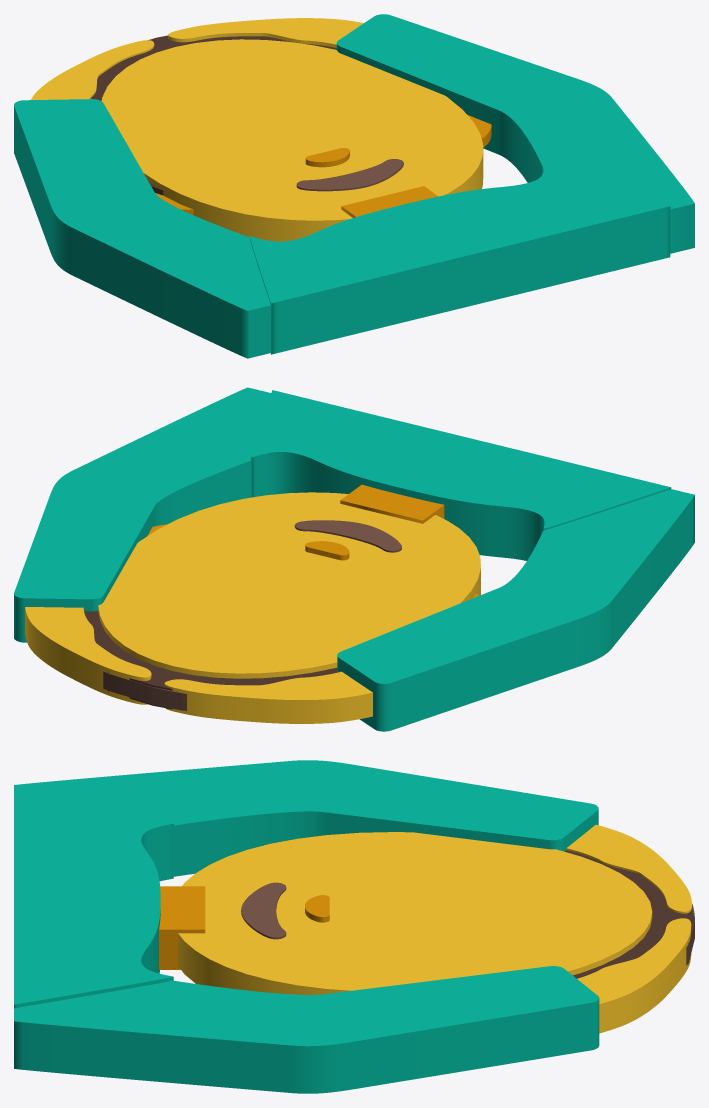
File: emoji_u1f646_200d_2642.glb
3 views of the same model, one above another, from view 1: azimuth 30°, elevation 25°; view 2: azimuth 150°, elevation 25°; view 3: azimuth 270°, elevation 25° (orthographic). The views are drawn at different scales.
Visible parts, largest first — view 1: emoji_u1f646_200d_2642; view 2: emoji_u1f646_200d_2642; view 3: emoji_u1f646_200d_2642.
Boxes of the visible parts, x1,y1,x2,y2 form: emoji_u1f646_200d_2642: (14, 14, 694, 358); emoji_u1f646_200d_2642: (14, 387, 694, 731); emoji_u1f646_200d_2642: (14, 760, 694, 1093).
Bounding box in the file's own units: 0.0333 × 0.003 × 0.0337.
